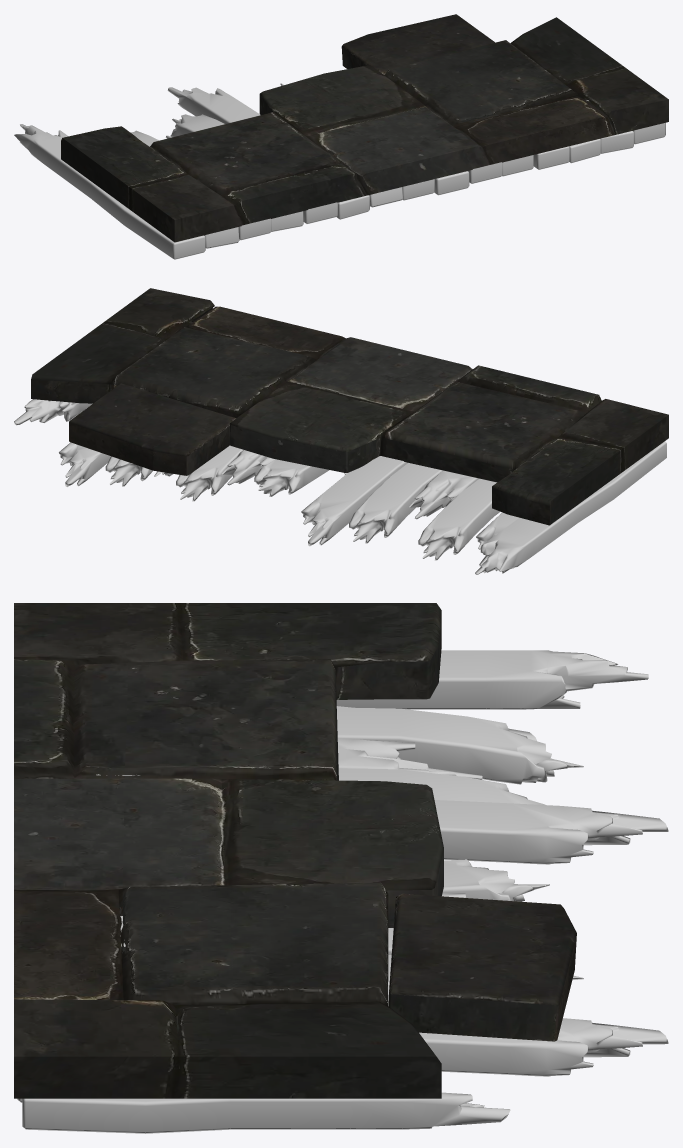
3 renders of one model, top to bottom at view 1: azimuth 30°, elevation 25°; view 2: azimuth 150°, elevation 25°; view 3: azimuth 270°, elevation 25°, orthographic. The views are drawn at different scales.
Parts seen in each view (by area): view 1: SM_SaradominTemple_Floor_Dmg_4x4_01_v1_LOD0; view 2: SM_SaradominTemple_Floor_Dmg_4x4_01_v1_LOD0; view 3: SM_SaradominTemple_Floor_Dmg_4x4_01_v1_LOD0.
Part boxes in pixels (box(x1,y1,x2,y2)): SM_SaradominTemple_Floor_Dmg_4x4_01_v1_LOD0: box(14, 14, 668, 259); SM_SaradominTemple_Floor_Dmg_4x4_01_v1_LOD0: box(14, 288, 668, 574); SM_SaradominTemple_Floor_Dmg_4x4_01_v1_LOD0: box(14, 603, 668, 1133).
Size of the model in its own units: 4 by 0.5242 by 2.44.
